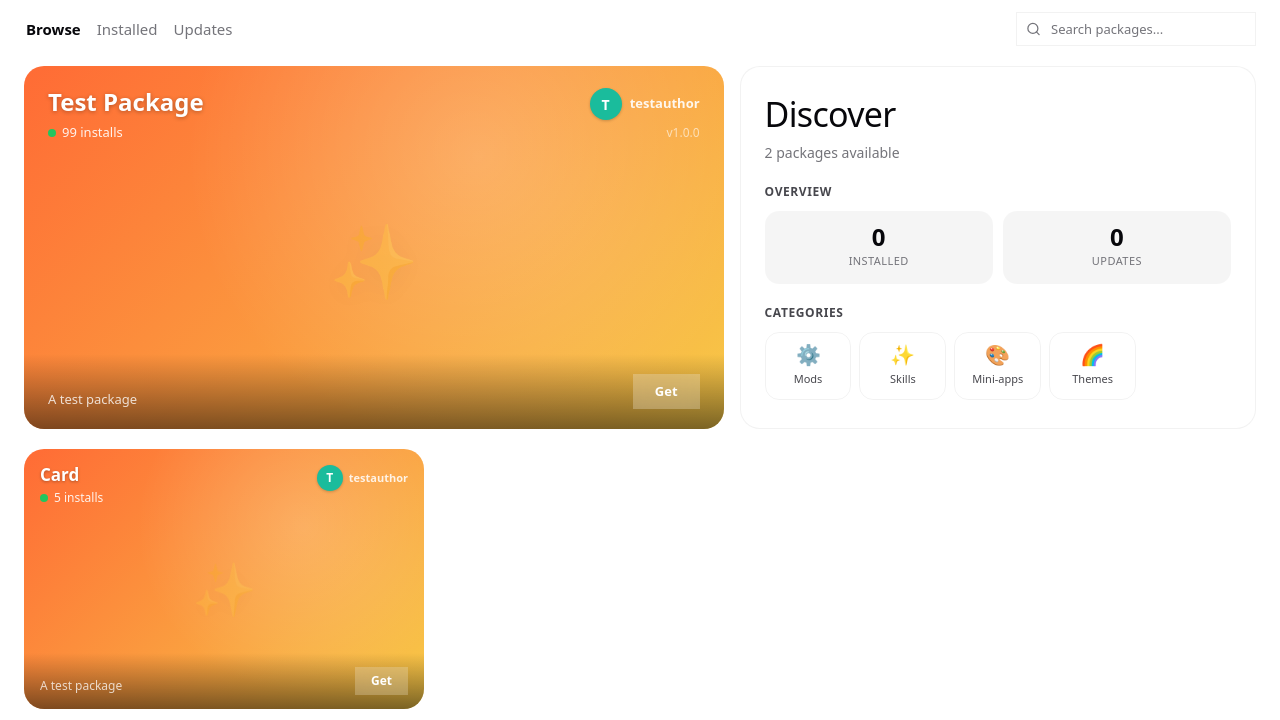
it: PackageDetail › navigates back to browse when back button is clicked
Click the element with class "store-card". click: (224, 579)
box: [24,449,424,709]
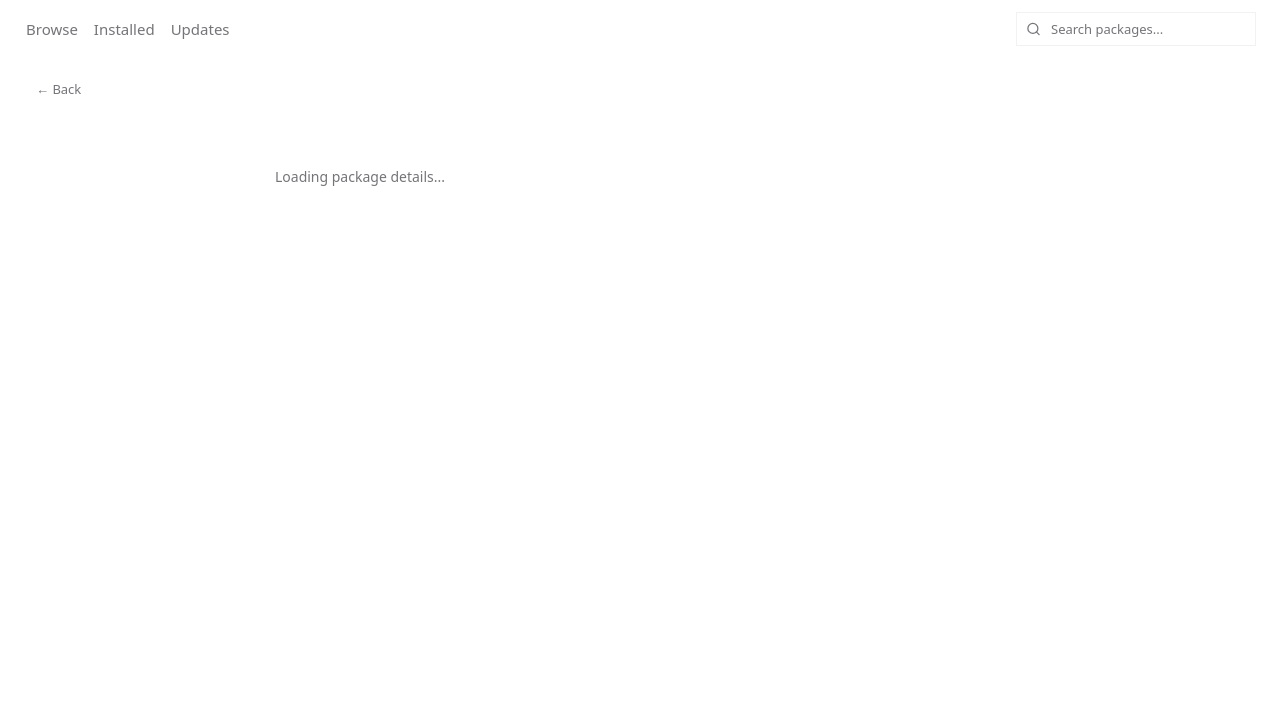
Now the text "Loading package details..." is shown, box [275,166,445,186]
Click the button with class "store-detail-back". click: (59, 90)
box: [24,74,93,106]
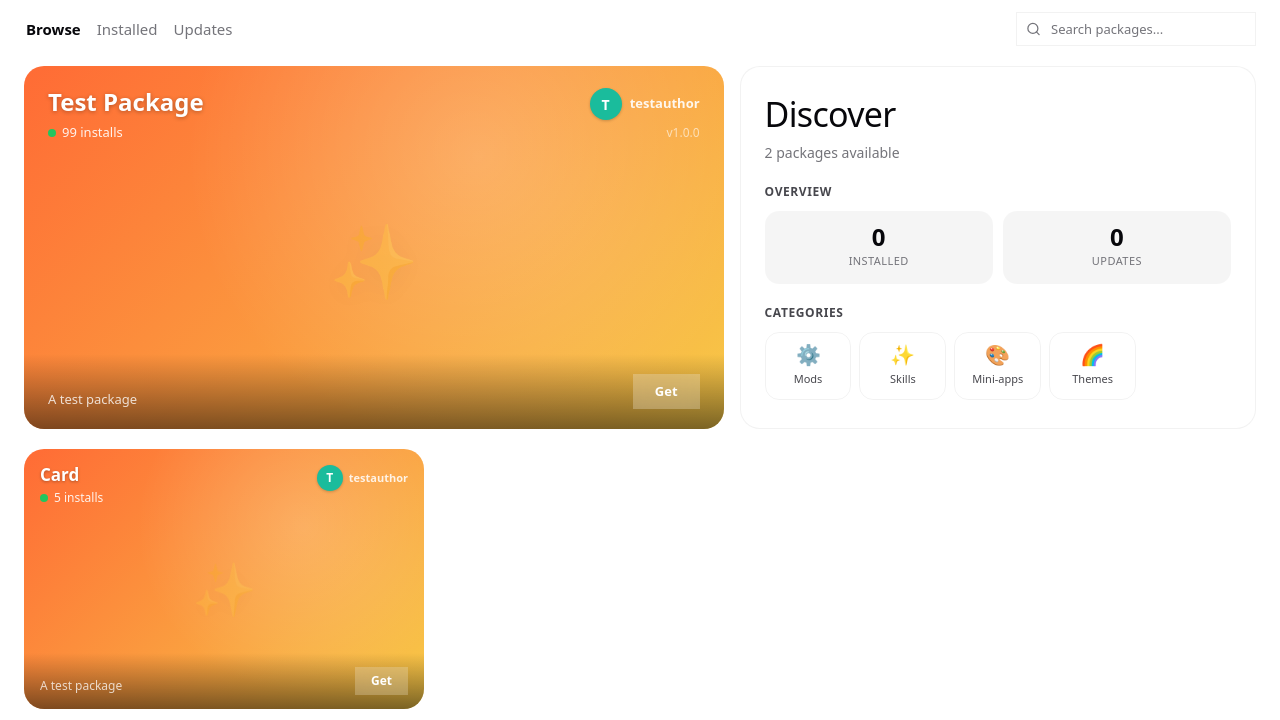
Now the text "Loading package details..." is gone
